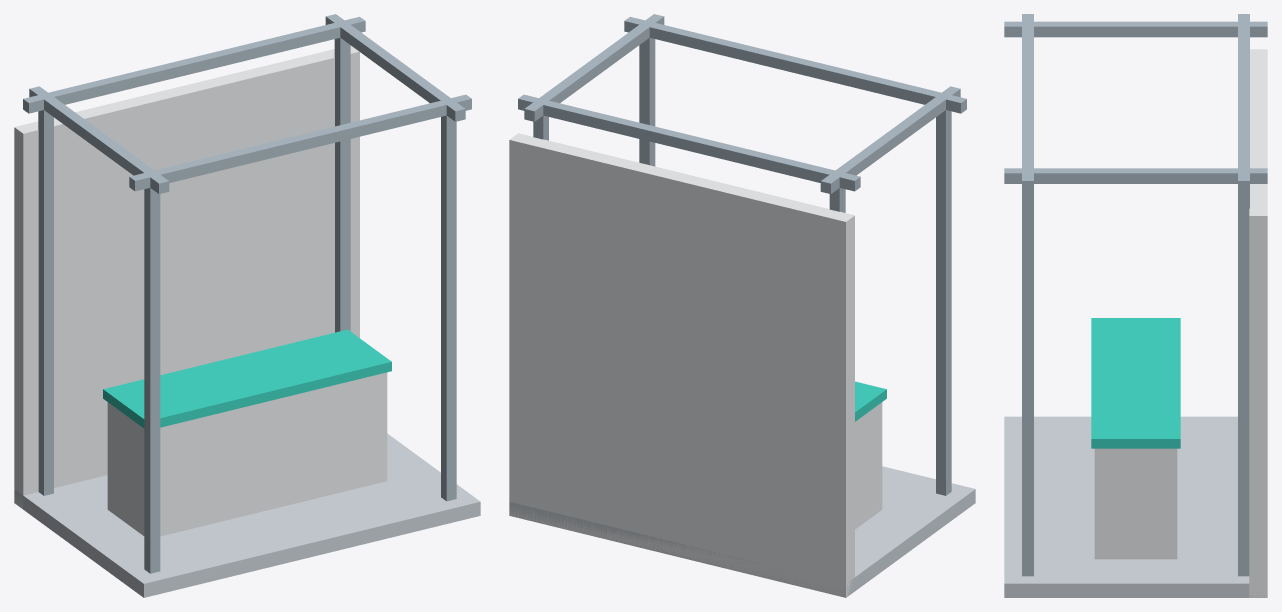
3 renders of one model, left to right at view 1: azimuth 30°, elevation 25°; view 2: azimuth 150°, elevation 25°; view 3: azimuth 270°, elevation 25°, orthographic.
Visible parts, largest first — view 1: Exhibition Booth Concept; view 2: Exhibition Booth Concept; view 3: Exhibition Booth Concept.
Part boxes in pixels (left/top/right/bottom): Exhibition Booth Concept: left=14, top=14, right=480, bottom=597; Exhibition Booth Concept: left=509, top=14, right=975, bottom=597; Exhibition Booth Concept: left=1004, top=14, right=1267, bottom=597.
Size of the model in its own units: 3 by 3.49 by 2.
